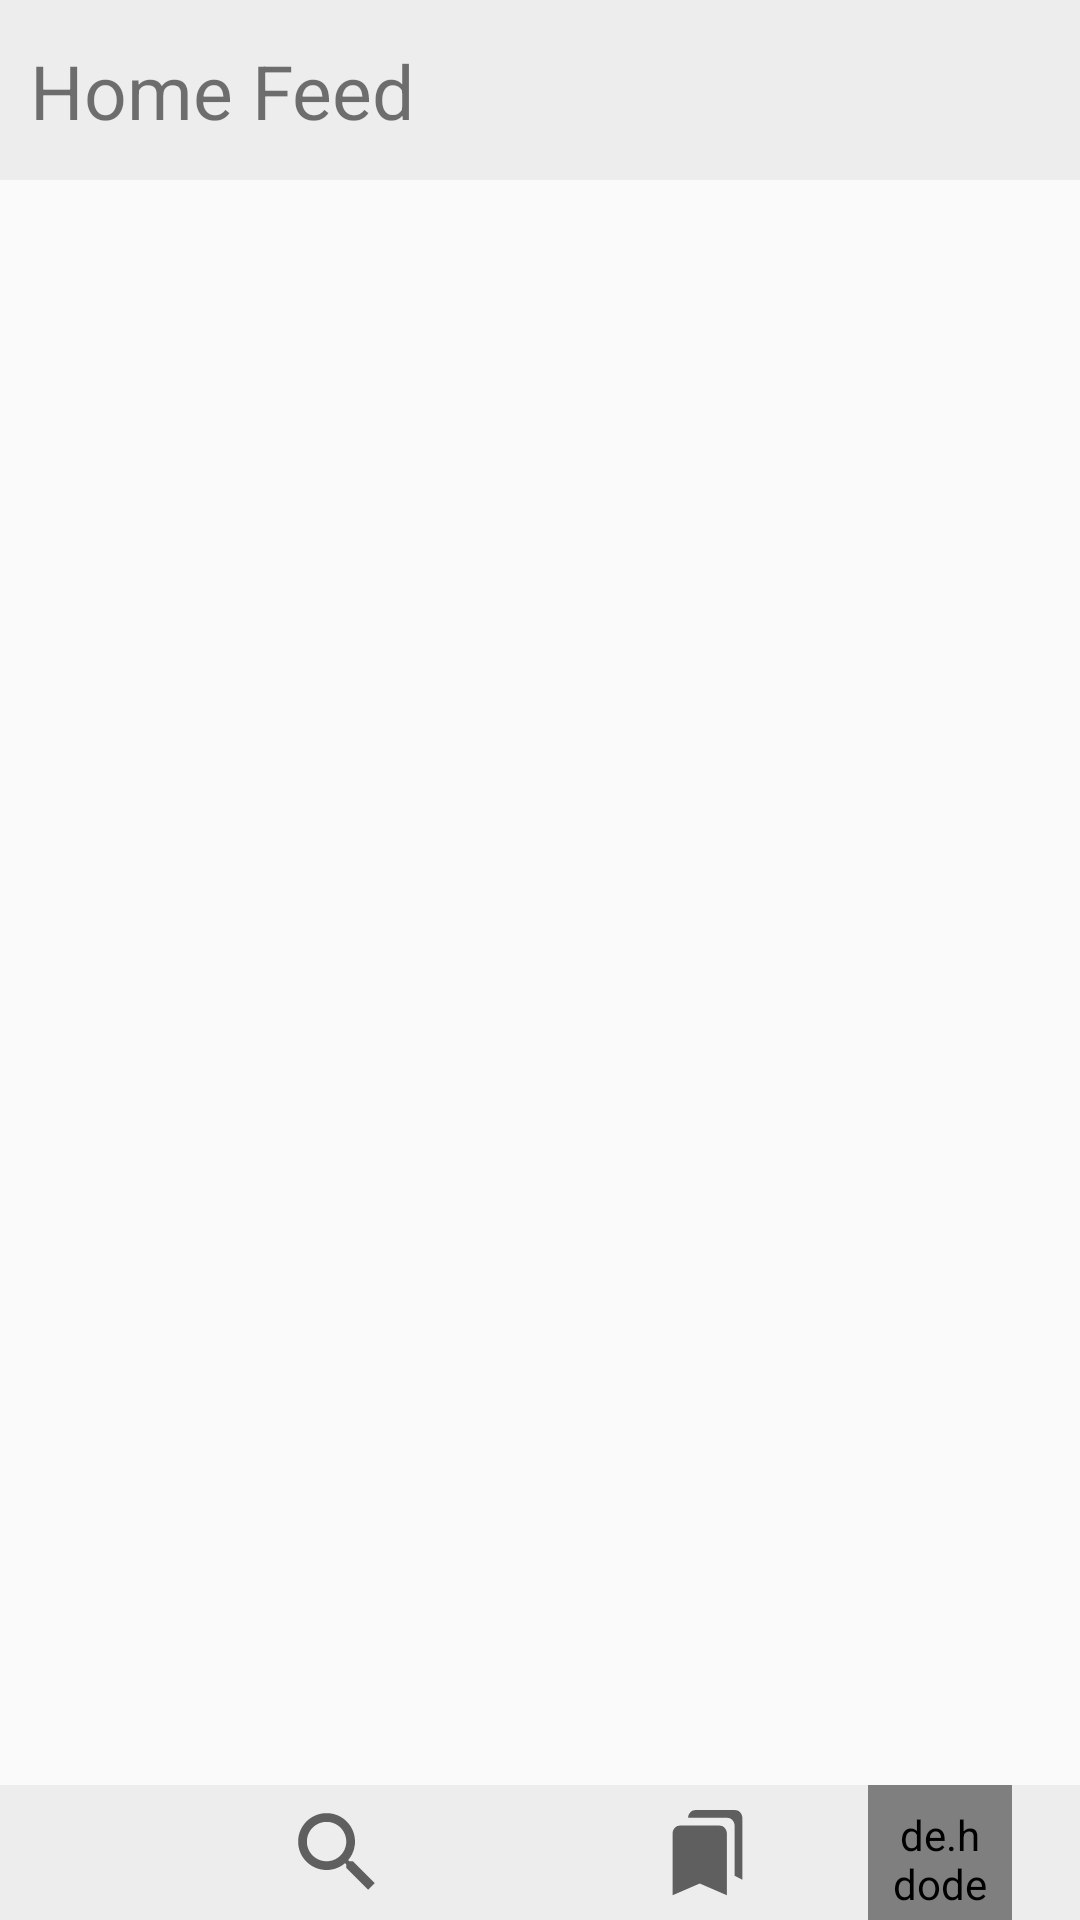

Icon click points for this 1080 x 1920 phone screenshot, format [x,y]:
bookmarks: [707,1852]
search: [336,1851]
